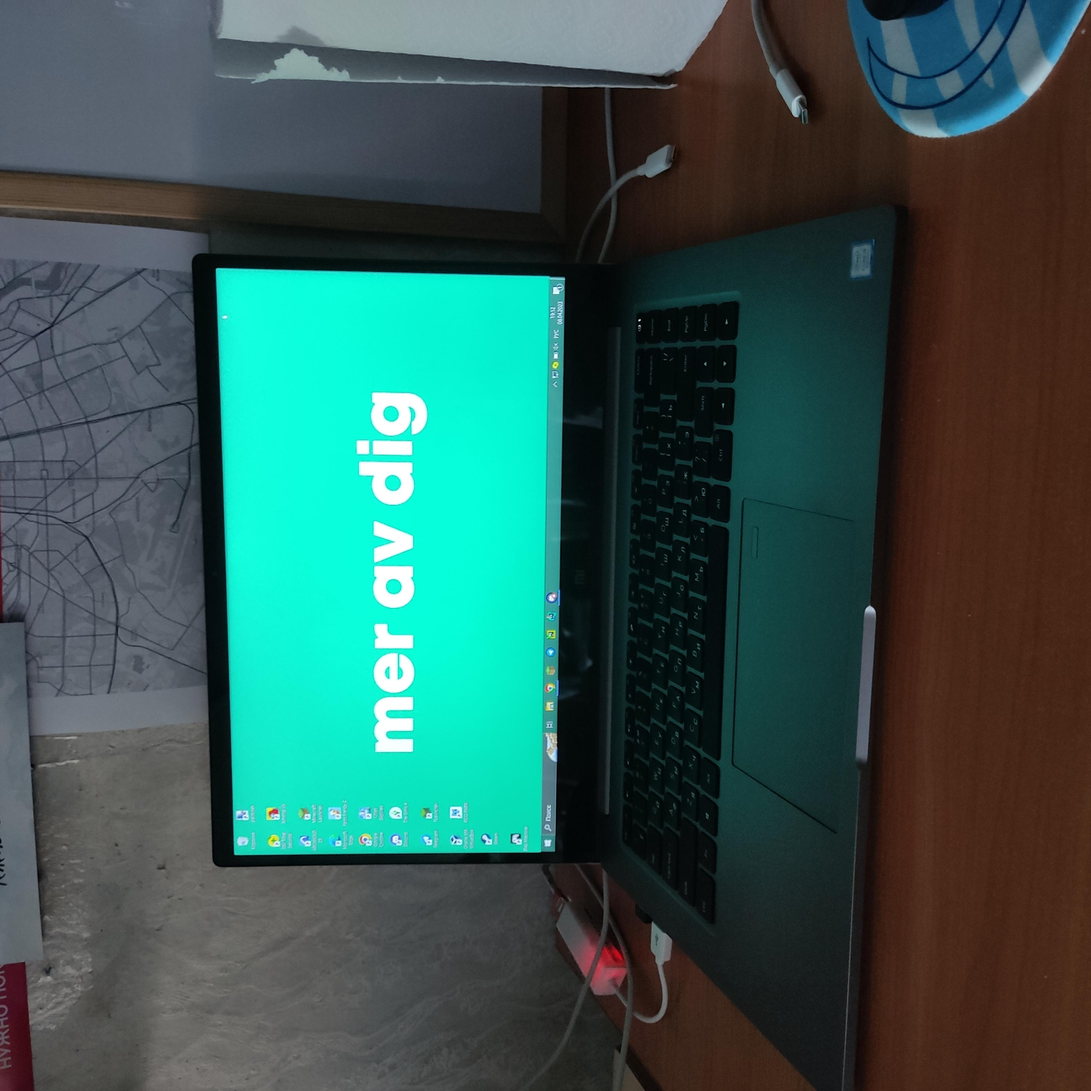monitor: (211, 189, 847, 596)
